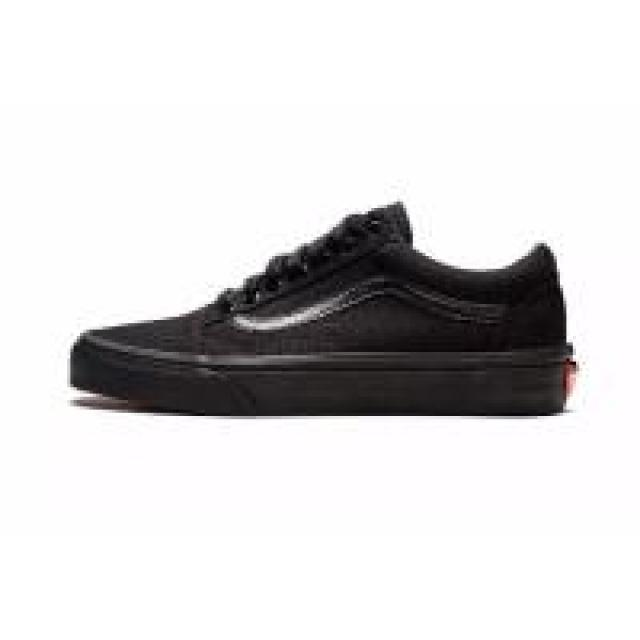shoe: (70, 200, 579, 422)
